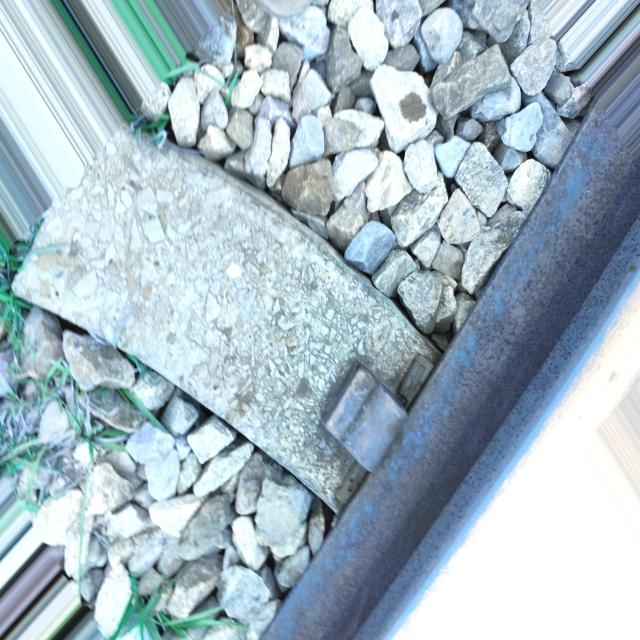Missing Fastener: (319, 363, 409, 503)
